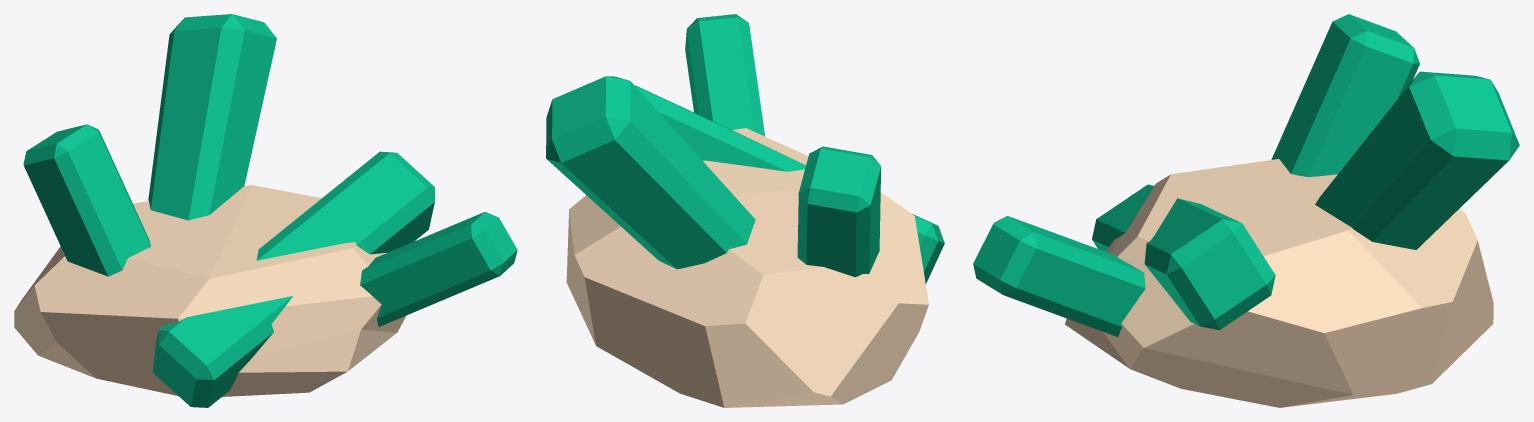
File: MineralNode_14_B.fbx
3 renders of one model, left to right at view 1: azimuth 30°, elevation 25°; view 2: azimuth 150°, elevation 25°; view 3: azimuth 270°, elevation 25°, orthographic. The views are drawn at different scales.
Parts seen in each view (by area): view 1: MineralNode_14_B; view 2: MineralNode_14_B; view 3: MineralNode_14_B.
Boxes of the visible parts, x1=… form: MineralNode_14_B: x1=14, y1=14, x2=517, y2=407; MineralNode_14_B: x1=546, y1=14, x2=944, y2=407; MineralNode_14_B: x1=973, y1=14, x2=1519, y2=407.
Bounding box in the file's own units: 85.66 × 61.49 × 98.23.
